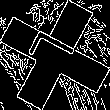L_SE: (26, 29, 84, 81)
